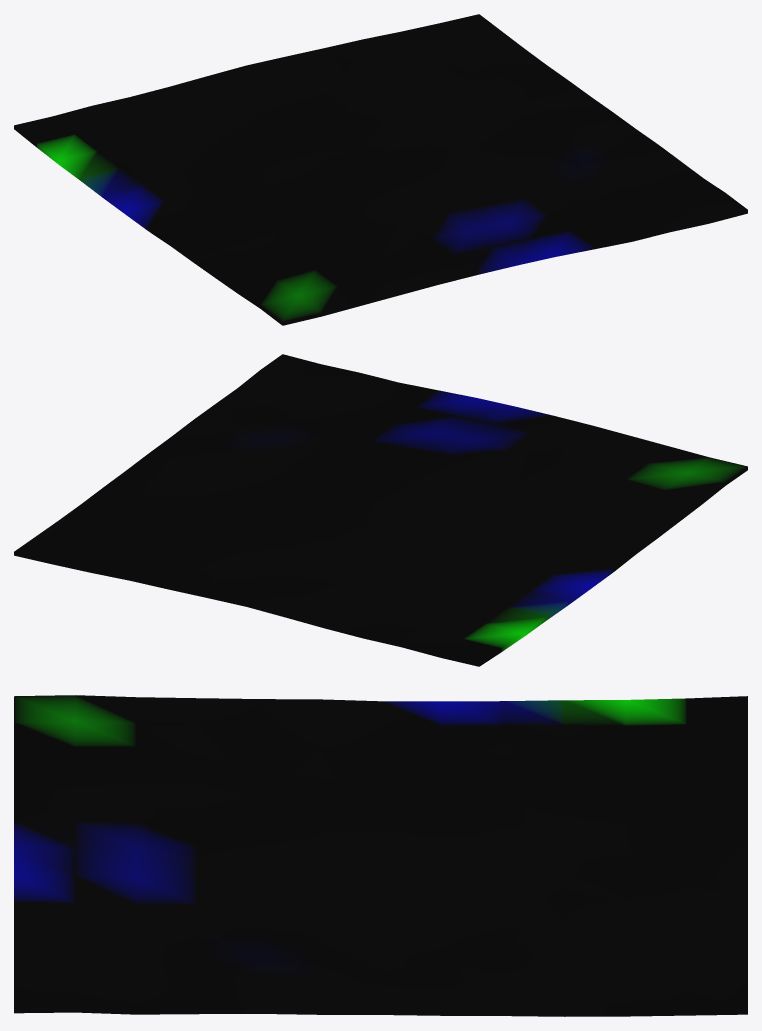
Rendered from coast_20_7.glb.
3 views of the same model, one above another, from view 1: azimuth 30°, elevation 25°; view 2: azimuth 150°, elevation 25°; view 3: azimuth 270°, elevation 25° (orthographic). The views are drawn at different scales.
Visible parts, largest first — view 1: terrain; view 2: terrain; view 3: terrain.
Part boxes in pixels (x1,y1,x2,y2): terrain: (14,14,747,325); terrain: (14,354,747,666); terrain: (14,695,747,1016).
Bounding box in the file's own units: 192 × 4.98 × 192.
